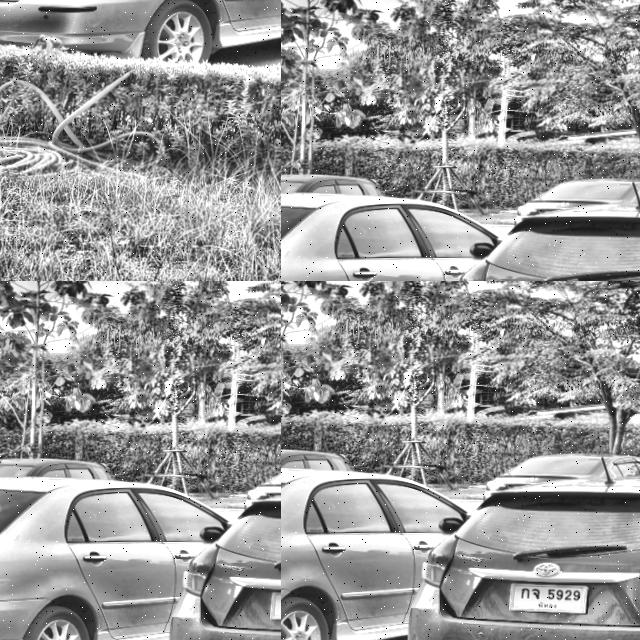license-plate: (506, 575, 595, 613)
